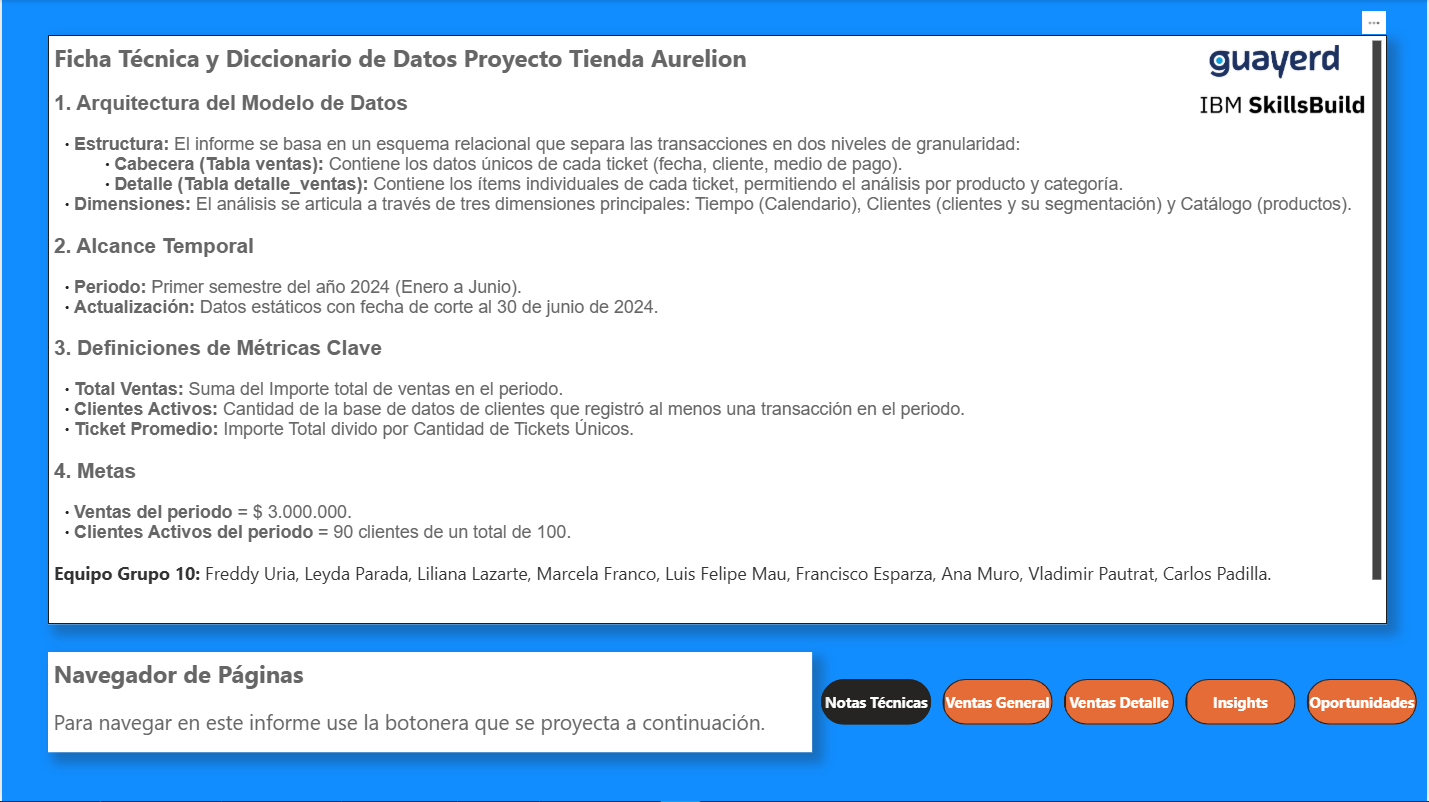

This screenshot's page, from the dashboard's own definition file:
{"tool":"powerbi","page":{"name":"Notas Técnicas","canvas":[1280,720],"ordinal":0},"visuals":[{"type":"pageNavigator","box":[734.8,609.7,535.7,41.7],"z":0},{"type":"textbox","box":[41.3,31.4,1202.1,528.8],"z":1000},{"type":"textbox","box":[41.3,585.3,685.9,89.8],"z":2000},{"type":"image","box":[1061.4,40.8,162.4,29.9],"z":3000},{"type":"image","box":[1075.9,79.8,147.9,31.8],"z":4000}]}

Visuals, with their boxes in screenshot pixels (x1, y1, x2, y2):
pageNavigator: {"left": 813, "top": 675, "right": 1403, "bottom": 721}
textbox: {"left": 49, "top": 38, "right": 1373, "bottom": 620}
textbox: {"left": 49, "top": 648, "right": 804, "bottom": 747}
image: {"left": 1172, "top": 49, "right": 1351, "bottom": 82}
image: {"left": 1188, "top": 92, "right": 1351, "bottom": 127}
